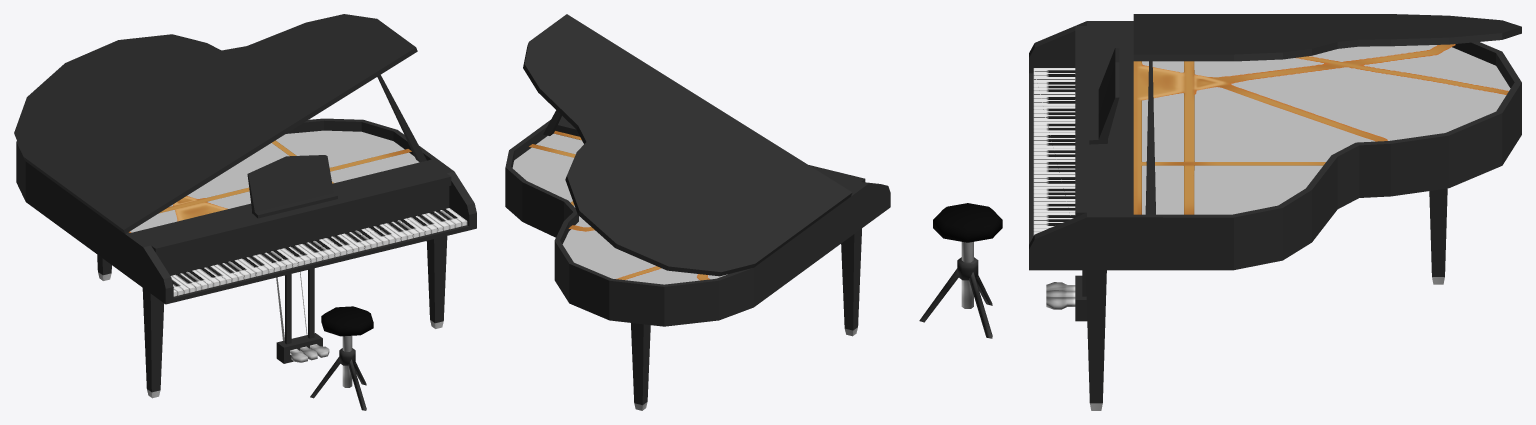
The model's file is Grand_Piano.fbx.
3 views of the same model, side by side, from view 1: azimuth 30°, elevation 25°; view 2: azimuth 150°, elevation 25°; view 3: azimuth 270°, elevation 25° (orthographic). The views are drawn at different scales.
Parts seen in each view (by area): view 1: Grand_Piano.001; view 2: Grand_Piano.001; view 3: Grand_Piano.001.
Part boxes in pixels (x1,y1,x2,y2): Grand_Piano.001: (14,14,476,410); Grand_Piano.001: (505,14,890,410); Grand_Piano.001: (919,14,1521,410).
Size of the model in its own units: 201 by 166 by 259.
